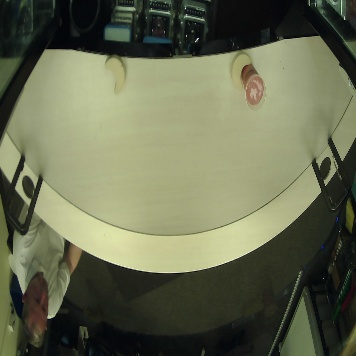full_cup: (235, 60, 271, 111)
puck: (104, 55, 129, 95), (230, 50, 255, 90)
